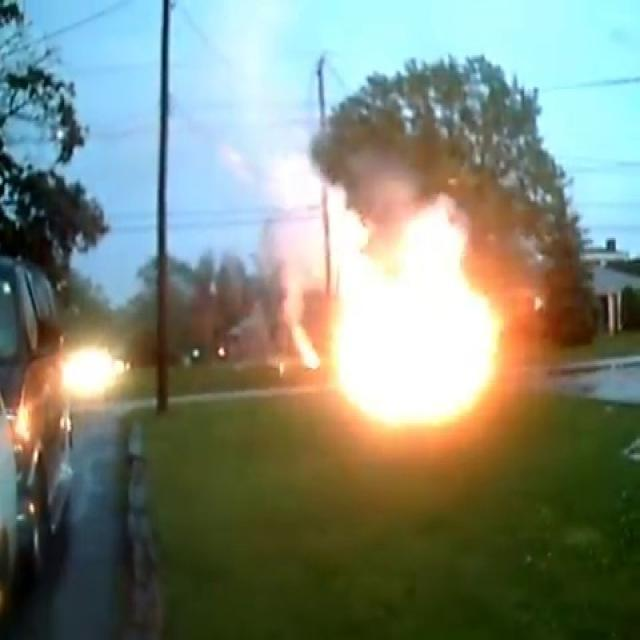Fire: (293, 181, 512, 439)
